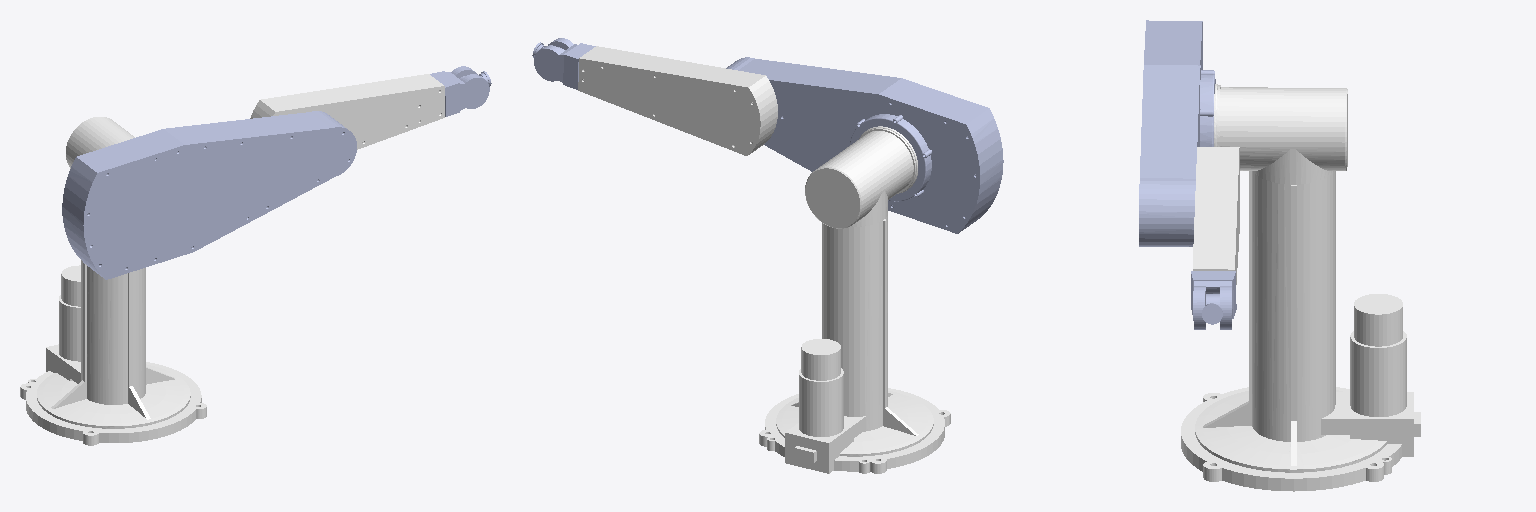
URDF robot description (puma560_description):
<?xml version="1.0" encoding="utf-8"?>
<!-- This URDF was automatically created by SolidWorks to URDF Exporter! Originally created by [author] ([email redacted]) 
     Commit Version: 1.6.0-1-g15f4949  Build Version: 1.6.7594.29634
     For more information, please see http://wiki.ros.org/sw_urdf_exporter -->
<robot
  name="puma560_description">
  <link
    name="base_link">
    <inertial>
      <origin
        xyz="-9.5392E-11 0.021962 0.19252"
        rpy="0 0 0" />
      <mass
        value="15.787" />
      <inertia
        ixx="0.55024"
        ixy="-2.8629E-11"
        ixz="-1.6745E-10"
        iyy="0.50424"
        iyz="0.022162"
        izz="0.16071" />
    </inertial>
    <visual>
      <origin
        xyz="0 0 0"
        rpy="0 0 0" />
      <geometry>
        <mesh
          filename="package://puma560_description/meshes/puma560_base_link.STL" />
      </geometry>
      <material
        name="white">
        <color
          rgba="1 1 1 1" />
      </material>
    </visual>
    <collision>
      <origin
        xyz="0 0 0"
        rpy="0 0 0" />
      <geometry>
        <mesh
          filename="package://puma560_description/meshes/puma560_base_link.STL" />
      </geometry>
    </collision>
  </link>
  <link
    name="waist_link">
    <inertial>
      <origin
        xyz="2.714E-07 -0.022505 -0.0027897"
        rpy="0 0 0" />
      <mass
        value="4.4341" />
      <inertia
        ixx="0.027328"
        ixy="-1.206E-08"
        ixz="-3.911E-09"
        iyy="0.013316"
        iyz="0.00027854"
        izz="0.027164" />
    </inertial>
    <visual>
      <origin
        xyz="0 0 0"
        rpy="0 0 0" />
      <geometry>
        <mesh
          filename="package://puma560_description/meshes/puma560_waist_link.STL" />
      </geometry>
      <material
        name="white">
        <color
          rgba="1 1 1 1" />
      </material>
    </visual>
    <collision>
      <origin
        xyz="0 0 0"
        rpy="0 0 0" />
      <geometry>
        <mesh
          filename="package://puma560_description/meshes/puma560_waist_link.STL" />
      </geometry>
    </collision>
  </link>
  <joint
    name="base_waist_joint"
    type="revolute">
    <origin
      xyz="0 0 0.62357"
      rpy="0 0 -0.018511" />
    <parent
      link="base_link" />
    <child
      link="waist_link" />
    <axis
      xyz="0 0 1" />
    <limit
      lower="-2.3562"
      upper="2.3562"
      effort="50"
      velocity="82" />
  </joint>
  <link
    name="shoulder_link">
    <inertial>
      <origin
        xyz="0.082737 0.0031596 -4.6776E-05"
        rpy="0 0 0" />
      <mass
        value="16.847" />
      <inertia
        ixx="0.09723"
        ixy="0.0043475"
        ixz="-7.8857E-06"
        iyy="0.65976"
        iyz="4.8383E-05"
        izz="0.59657" />
    </inertial>
    <visual>
      <origin
        xyz="0 0 0"
        rpy="0 0 0" />
      <geometry>
        <mesh
          filename="package://puma560_description/meshes/puma560_shoulder_link.STL" />
      </geometry>
      <material
        name="gris01">
        <color
          rgba="0.79216 0.81961 0.93333 1" />
      </material>
    </visual>
    <collision>
      <origin
        xyz="0 0 0"
        rpy="0 0 0" />
      <geometry>
        <mesh
          filename="package://puma560_description/meshes/puma560_shoulder_link.STL" />
      </geometry>
    </collision>
  </link>
  <joint
    name="waist_shoulder_joint"
    type="revolute">
    <origin
      xyz="0 -0.21844 0"
      rpy="0 -0.083022 0" />
    <parent
      link="waist_link" />
    <child
      link="shoulder_link" />
    <axis
      xyz="0 1 0" />
    <limit
      lower="-2.3562"
      upper="2.3562"
      effort="50"
      velocity="74" />
  </joint>
  <link
    name="elbow_link">
    <inertial>
      <origin
        xyz="0.088774 1.5623E-06 -1.1788E-06"
        rpy="0 0 0" />
      <mass
        value="4.6025" />
      <inertia
        ixx="0.0091916"
        ixy="2.2739E-06"
        ixz="4.837E-07"
        iyy="0.087355"
        iyz="3.6529E-07"
        izz="0.082615" />
    </inertial>
    <visual>
      <origin
        xyz="0 0 0"
        rpy="0 0 0" />
      <geometry>
        <mesh
          filename="package://puma560_description/meshes/puma560_elbow_link.STL" />
      </geometry>
      <material
        name="white">
        <color
          rgba="1 1 1 1" />
      </material>
    </visual>
    <collision>
      <origin
        xyz="0 0 0"
        rpy="0 0 0" />
      <geometry>
        <mesh
          filename="package://puma560_description/meshes/puma560_elbow_link.STL" />
      </geometry>
    </collision>
  </link>
  <joint
    name="shoulder_elbow_link"
    type="revolute">
    <origin
      xyz="0.4318 0.0889 0"
      rpy="3.1416 0.057886 0" />
    <parent
      link="shoulder_link" />
    <child
      link="elbow_link" />
    <axis
      xyz="0 -1 0" />
    <limit
      lower="-2.3562"
      upper="2.3562"
      effort="20"
      velocity="122" />
  </joint>
  <link
    name="wrist_roll_link">
    <inertial>
      <origin
        xyz="-0.032409 -1.3878E-17 0"
        rpy="0 0 0" />
      <mass
        value="0.47079" />
      <inertia
        ixx="0.00046683"
        ixy="-6.0139E-20"
        ixz="1.0912E-19"
        iyy="0.00073772"
        iyz="-3.134E-20"
        izz="0.00077289" />
    </inertial>
    <visual>
      <origin
        xyz="0 0 0"
        rpy="0 0 0" />
      <geometry>
        <mesh
          filename="package://puma560_description/meshes/puma560_wrist_roll_link.STL" />
      </geometry>
      <material
        name="gris2">
        <color
          rgba="0.79216 0.81961 0.93333 1" />
      </material>
    </visual>
    <collision>
      <origin
        xyz="0 0 0"
        rpy="0 0 0" />
      <geometry>
        <mesh
          filename="package://puma560_description/meshes/puma560_wrist_roll_link.STL" />
      </geometry>
    </collision>
  </link>
  <joint
    name="elbow_wrist_roll_joint"
    type="revolute">
    <origin
      xyz="0.43209 0 0"
      rpy="-3.1305 0 0" />
    <parent
      link="elbow_link" />
    <child
      link="wrist_roll_link" />
    <axis
      xyz="1 0 0" />
    <limit
      lower="-2.3562"
      upper="2.3562"
      effort="20"
      velocity="228" />
  </joint>
  <link
    name="wrist_bend_link">
    <inertial>
      <origin
        xyz="0.010974 -6.7753E-10 1.7546E-09"
        rpy="0 0 0" />
      <mass
        value="0.077406" />
      <inertia
        ixx="1.6966E-05"
        ixy="6.3394E-13"
        ixz="-3.0414E-12"
        iyy="4.5414E-05"
        iyz="1.1518E-11"
        izz="4.3032E-05" />
    </inertial>
    <visual>
      <origin
        xyz="0 0 0"
        rpy="0 0 0" />
      <geometry>
        <mesh
          filename="package://puma560_description/meshes/puma560_wrist_bend_link.STL" />
      </geometry>
      <material
        name="gris2">
        <color
          rgba="0.79216 0.81961 0.93333 1" />
      </material>
    </visual>
    <collision>
      <origin
        xyz="0 0 0"
        rpy="0 0 0" />
      <geometry>
        <mesh
          filename="package://puma560_description/meshes/puma560_wrist_bend_link.STL" />
      </geometry>
    </collision>
  </link>
  <joint
    name="wrist_roll_bend_joint"
    type="revolute">
    <origin
      xyz="0 0 0"
      rpy="0 -0.19722 0" />
    <parent
      link="wrist_roll_link" />
    <child
      link="wrist_bend_link" />
    <axis
      xyz="0 -1 0" />
    <limit
      lower="-2.3562"
      upper="2.3562"
      effort="15"
      velocity="120" />
  </joint>
</robot>

--- Facts derived from the render (not from the file) ---
3 views of the same robot in one strip: view 1: azimuth 30°, elevation 25°; view 2: azimuth 150°, elevation 25°; view 3: azimuth 270°, elevation 25° (orthographic).
Robot: puma560_description — 6 links, 5 joints (5 revolute); root link base_link; default pose: every joint at zero.
Visible links, largest first — view 1: shoulder_link, base_link, elbow_link, wrist_roll_link, waist_link; view 2: base_link, shoulder_link, elbow_link, waist_link, wrist_roll_link; view 3: base_link, shoulder_link, waist_link, elbow_link, wrist_roll_link.
Link boxes in pixels (x1,y1,x2,y2): shoulder_link: [62, 111, 356, 279]; base_link: [20, 260, 206, 445]; elbow_link: [250, 74, 444, 149]; wrist_roll_link: [430, 66, 489, 116]; waist_link: [66, 117, 134, 168]; base_link: [759, 216, 950, 473]; shoulder_link: [726, 57, 1003, 233]; elbow_link: [578, 46, 777, 155]; waist_link: [805, 126, 917, 228]; wrist_roll_link: [534, 38, 595, 89]; base_link: [1181, 171, 1420, 491]; shoulder_link: [1139, 20, 1215, 246]; waist_link: [1214, 84, 1347, 184]; elbow_link: [1193, 147, 1239, 284]; wrist_roll_link: [1191, 271, 1236, 329].
Size in the robot's own frame: 1.15 by 0.5069 by 0.767 metres.
Meshes: 6 distinct files referenced, 6 mesh visuals loaded (6 binary STL).